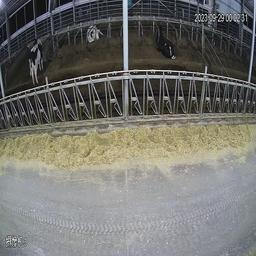cow: (153, 21, 177, 61), (27, 36, 44, 87), (85, 21, 103, 43)
